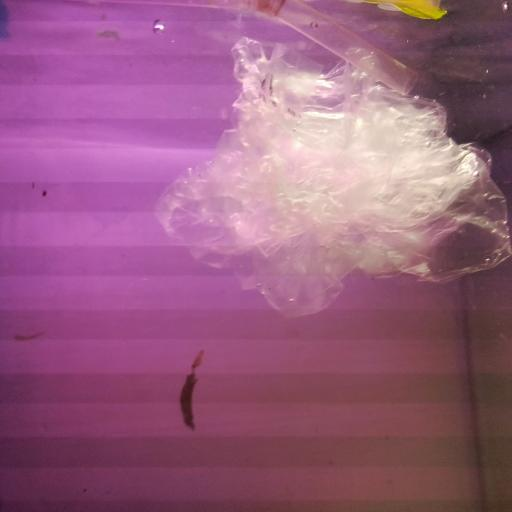plastic_bag: (155, 37, 512, 323)
plastic_straw: (129, 0, 423, 94)
